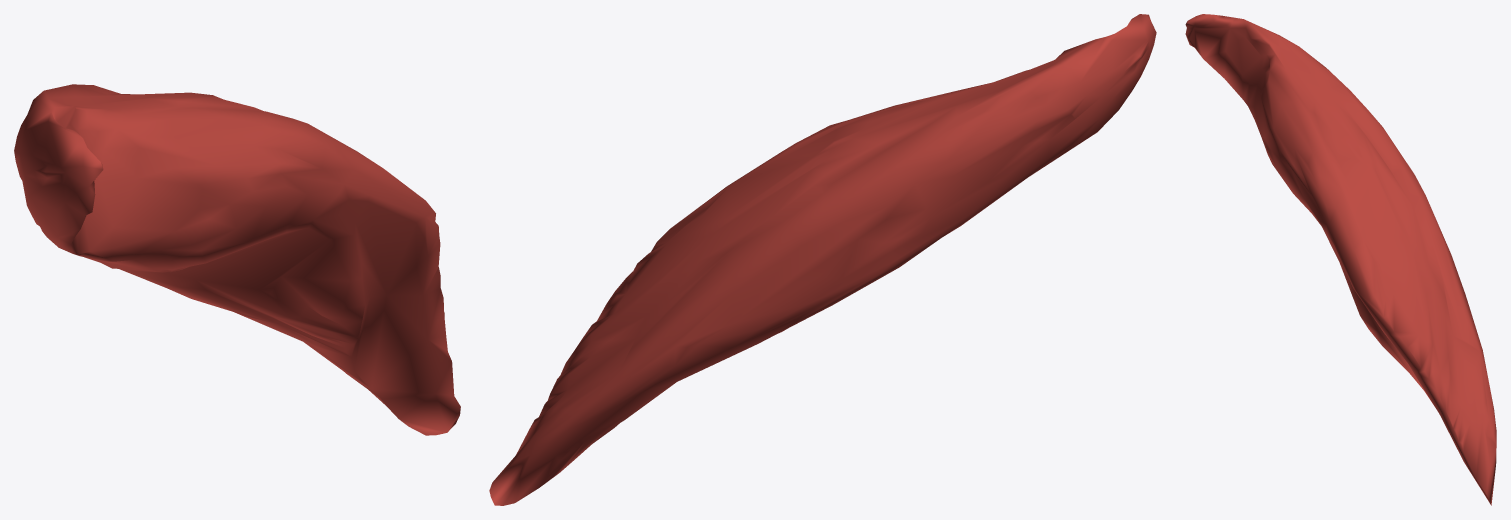
File: musculos-teres-minor-muscle-r.glb
3 renders of one model, left to right at view 1: azimuth 30°, elevation 25°; view 2: azimuth 150°, elevation 25°; view 3: azimuth 270°, elevation 25°, orthographic. The views are drawn at different scales.
Parts seen in each view (by area): view 1: Teres minor muscle.r; view 2: Teres minor muscle.r; view 3: Teres minor muscle.r.
Part boxes in pixels (left/top/right/bottom): Teres minor muscle.r: left=14, top=84, right=460, bottom=435; Teres minor muscle.r: left=489, top=14, right=1156, bottom=505; Teres minor muscle.r: left=1185, top=14, right=1496, bottom=505.
Bounding box in the file's own units: 0.0961 × 0.0895 × 0.0758.
